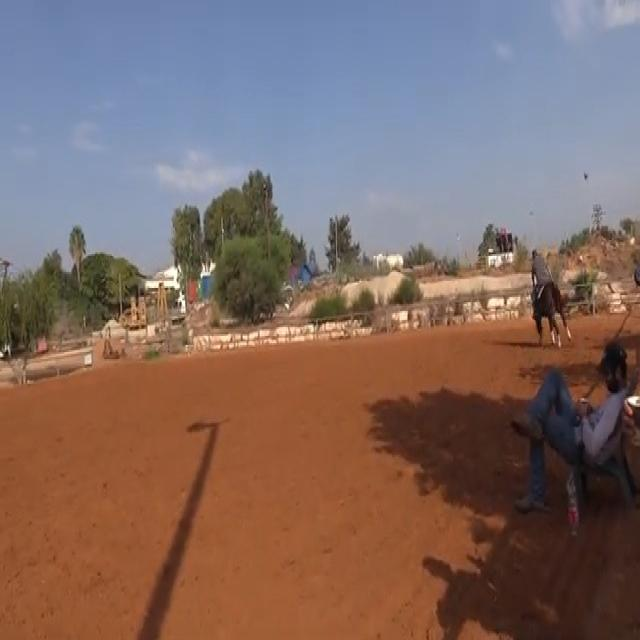horse: (528, 278, 573, 348)
